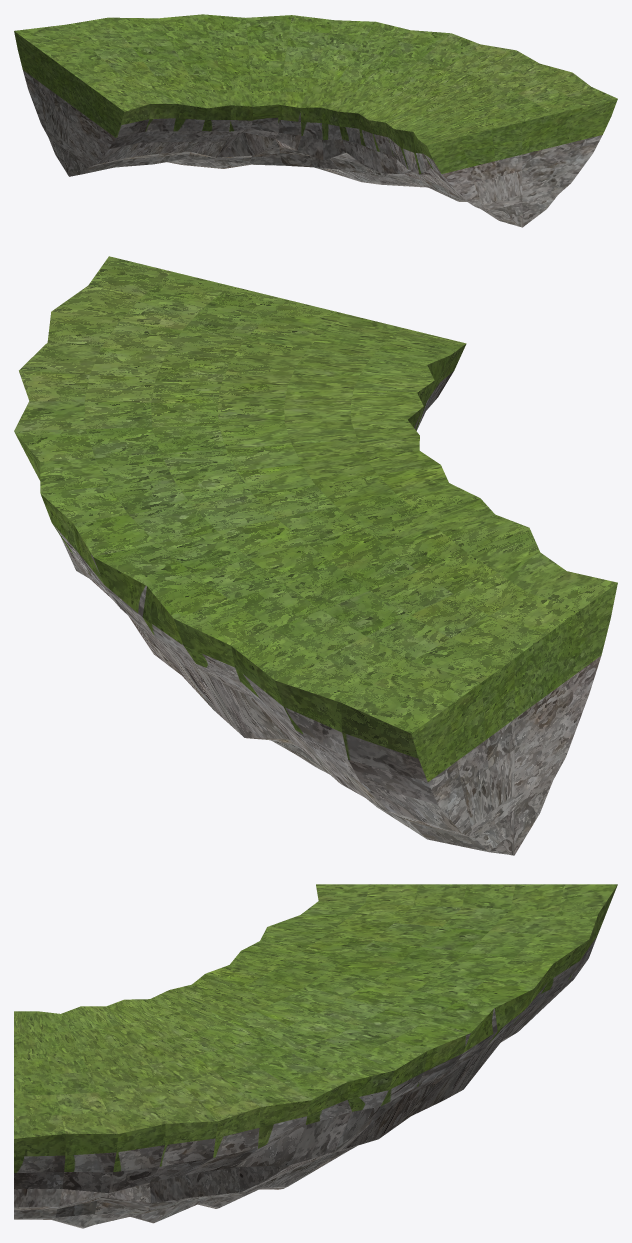
File: Bocht90_extrashort_Flipped.FBX
3 views of the same model, one above another, from view 1: azimuth 30°, elevation 25°; view 2: azimuth 150°, elevation 25°; view 3: azimuth 270°, elevation 25° (orthographic). The views are drawn at different scales.
Parts seen in each view (by area): view 1: Straight_Way_Final012; view 2: Straight_Way_Final012; view 3: Straight_Way_Final012.
Part boxes in pixels (x1,y1,x2,y2): Straight_Way_Final012: (14, 14, 617, 227); Straight_Way_Final012: (14, 256, 617, 855); Straight_Way_Final012: (14, 884, 617, 1228).
Size of the model in its own units: 800 by 230 by 800.
